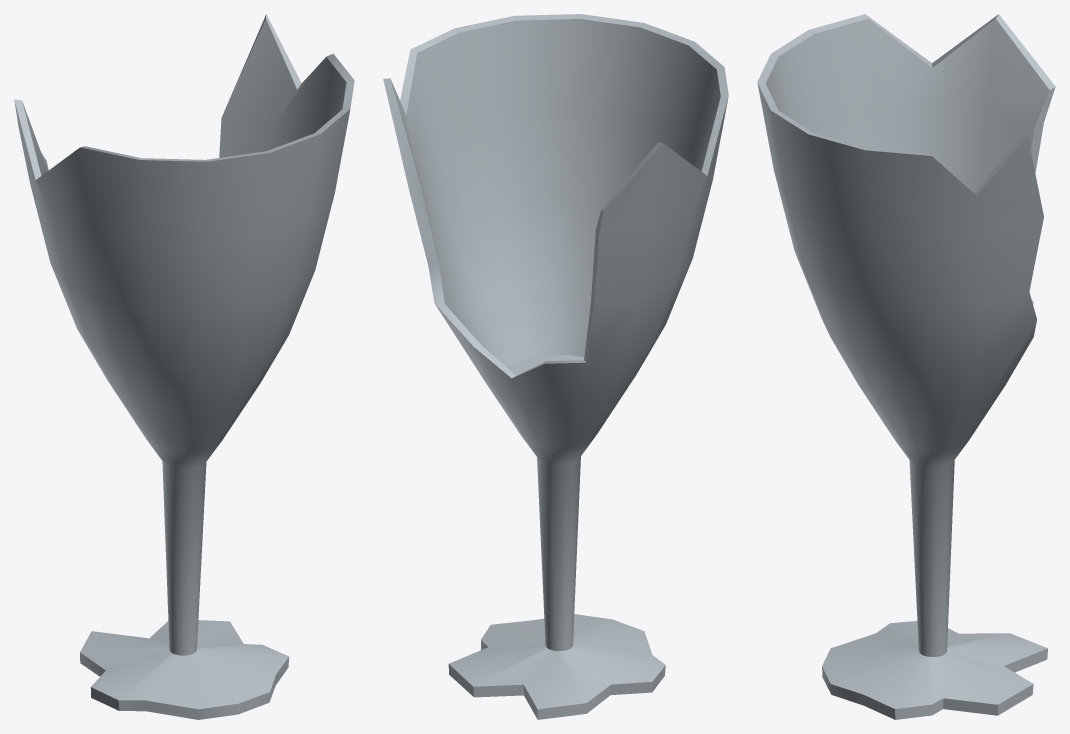
The model's file is Vaso_04.fbx.
The picture shows the model from 3 angles, left to right: view 1: azimuth 30°, elevation 25°; view 2: azimuth 150°, elevation 25°; view 3: azimuth 270°, elevation 25°; orthographic projection.
Parts seen in each view (by area): view 1: Vaso_04; view 2: Vaso_04; view 3: Vaso_04.
Boxes of the visible parts, left/top/right/bottom form: Vaso_04: left=14, top=14, right=354, bottom=719; Vaso_04: left=383, top=14, right=728, bottom=719; Vaso_04: left=757, top=14, right=1055, bottom=719.
Size of the model in its own units: 30.9 by 59.03 by 26.37.
